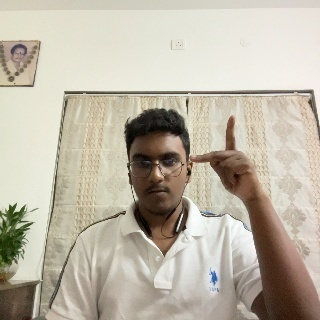Okay: (190, 116, 273, 213)
